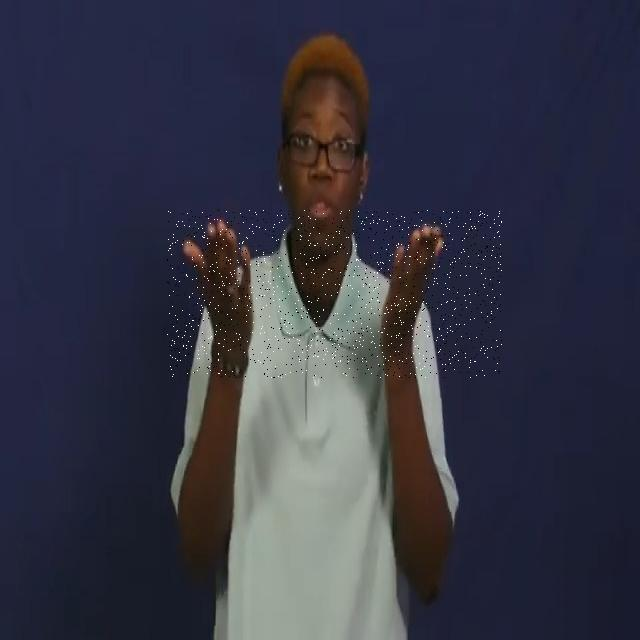wait: (167, 210, 502, 378)
